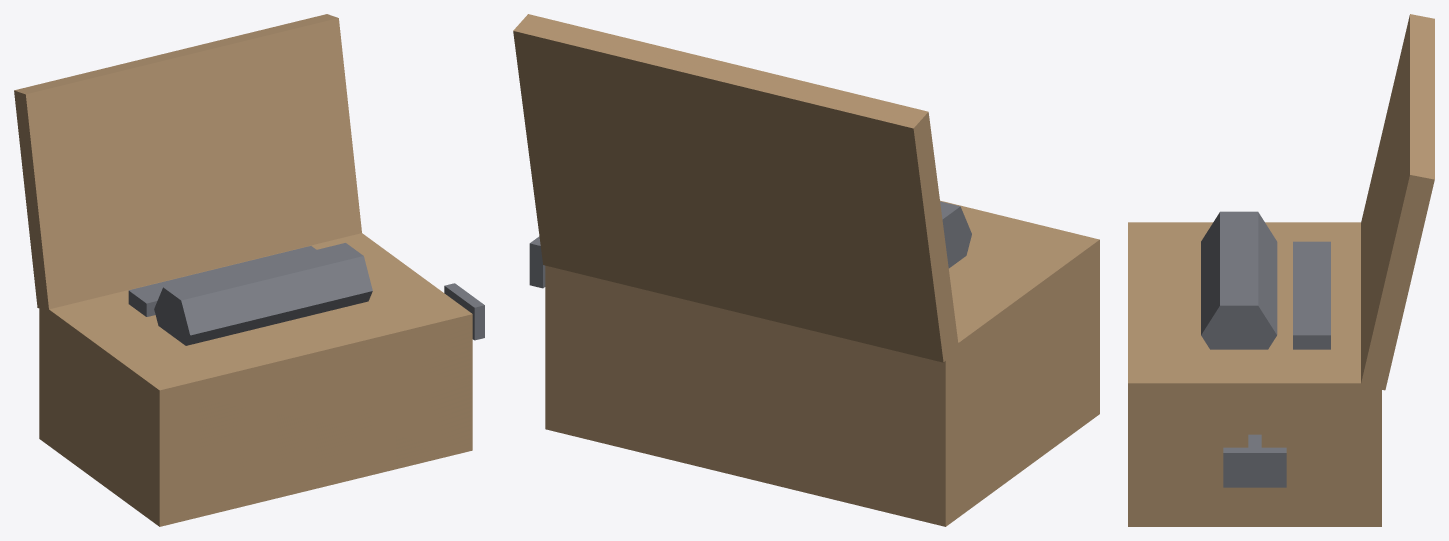
File: music_box.glb
3 views of the same model, side by side, from view 1: azimuth 30°, elevation 25°; view 2: azimuth 150°, elevation 25°; view 3: azimuth 270°, elevation 25° (orthographic). The views are drawn at different scales.
Parts seen in each view (by area): view 1: music_box, mechanism; view 2: music_box, mechanism; view 3: music_box, mechanism.
Part boxes in pixels (x1=…): music_box: x1=14, y1=14, x2=472, y2=526; mechanism: x1=128, y1=243, x2=484, y2=345; music_box: x1=513, y1=14, x2=1099, y2=526; mechanism: x1=529, y1=201, x2=971, y2=288; music_box: x1=1128, y1=14, x2=1434, y2=526; mechanism: x1=1201, y1=211, x2=1330, y2=487.
Bounding box in the file's own units: 0.142 × 0.1225 × 0.0967.
